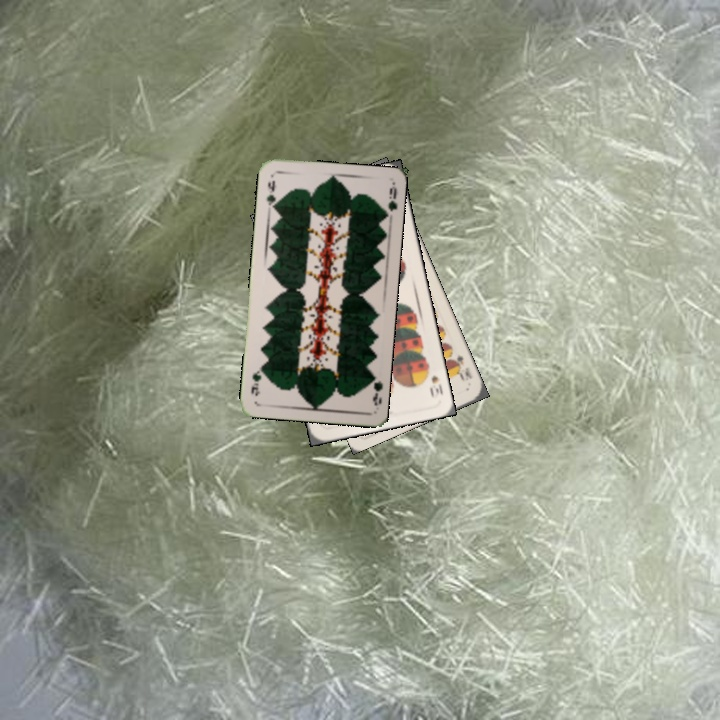E10: (446, 350, 475, 383)
G9: (365, 370, 385, 408), (262, 176, 279, 213)
S10: (421, 362, 446, 401)
